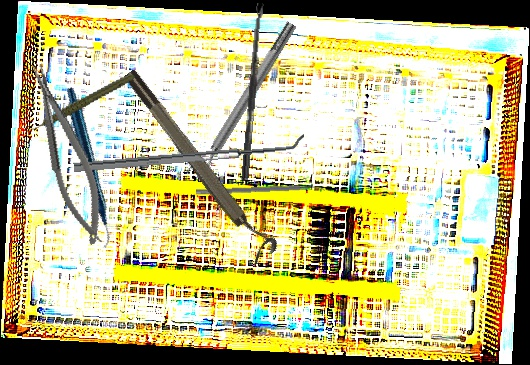Fixation Ring: (120, 60, 281, 266), (184, 16, 306, 188)
Handpiece: (16, 86, 158, 250), (18, 72, 141, 133)
Needle Holder: (23, 57, 113, 250)
Spatula Surgical: (72, 133, 306, 173), (195, 182, 326, 201)
Surgical Spoon: (241, 2, 265, 182)
